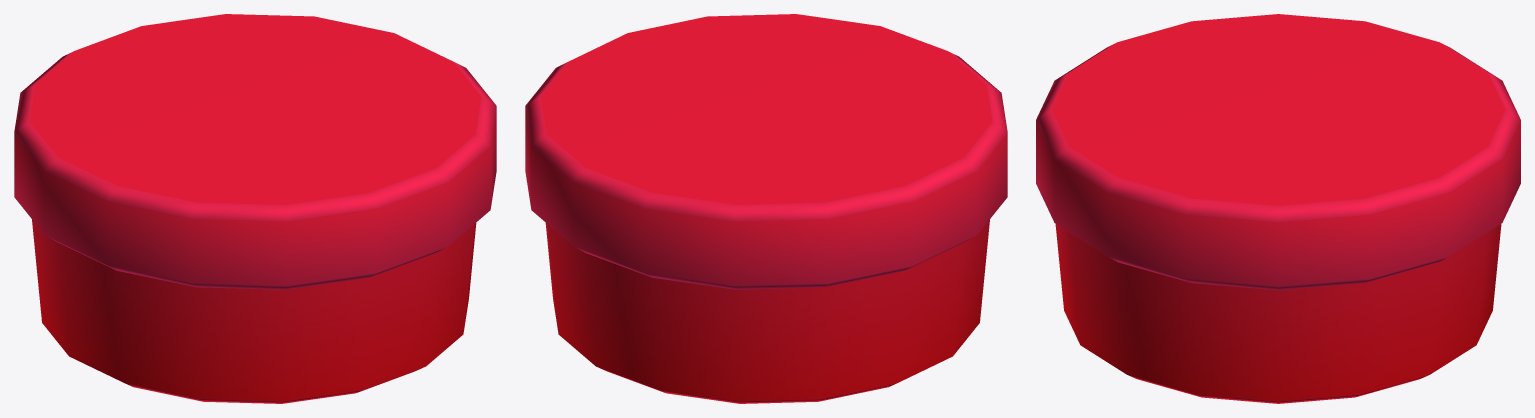
Rendered from giftbox_038.fbx.
3 renders of one model, left to right at view 1: azimuth 30°, elevation 25°; view 2: azimuth 150°, elevation 25°; view 3: azimuth 270°, elevation 25°, orthographic.
Parts seen in each view (by area): view 1: giftbox_038; view 2: giftbox_038; view 3: giftbox_038.
Boxes of the visible parts, x1,y1,x2,y2 form: giftbox_038: (14, 14, 496, 403); giftbox_038: (525, 14, 1007, 403); giftbox_038: (1036, 14, 1520, 403).
Size of the model in its own units: 226 by 226 by 108.
